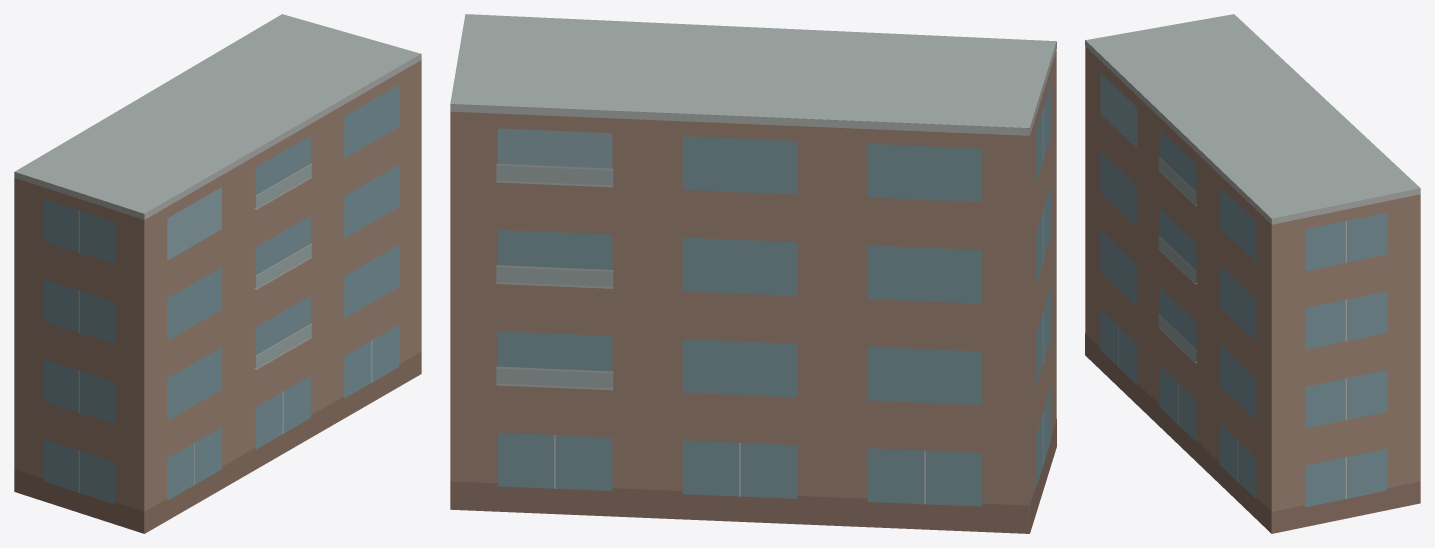
File: survey-upis-32732808.glb
The picture shows the model from 3 angles, left to right: view 1: azimuth 30°, elevation 25°; view 2: azimuth 150°, elevation 25°; view 3: azimuth 270°, elevation 25°; orthographic projection. The views are drawn at different scales.
Parts seen in each view (by area): view 1: survey-upis-32732808.tmp; view 2: survey-upis-32732808.tmp; view 3: survey-upis-32732808.tmp.
Boxes of the visible parts, <box> form: survey-upis-32732808.tmp: <box>14,14,421,533</box>; survey-upis-32732808.tmp: <box>450,14,1056,533</box>; survey-upis-32732808.tmp: <box>1085,14,1420,533</box>.
Size of the model in its own units: 17.85 by 12.8 by 12.36.
